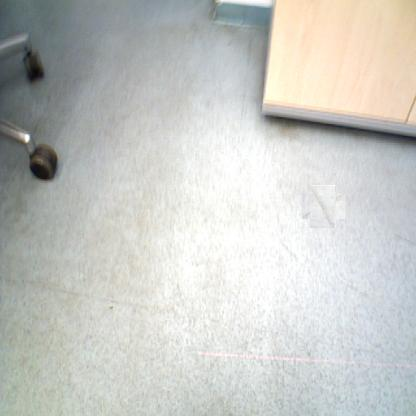mark: (306, 189, 341, 224), (392, 232, 416, 246), (106, 304, 114, 312)
